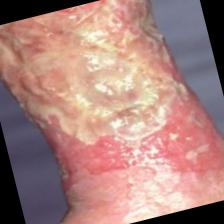wound-ulser: (0, 0, 190, 178)
